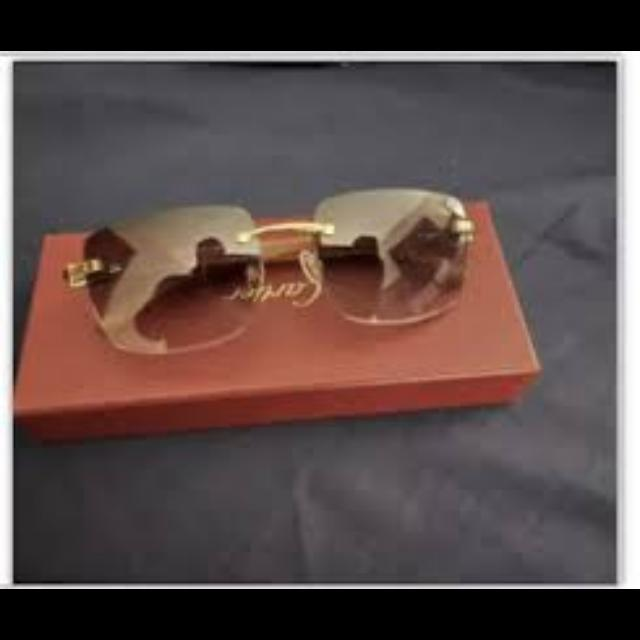sunglasses: (54, 194, 496, 358)
